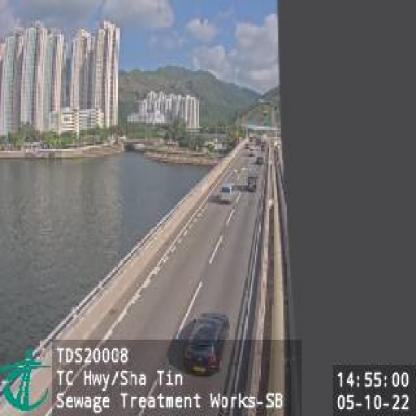Car: (184, 310, 228, 374), (218, 180, 233, 201), (245, 173, 254, 189)
